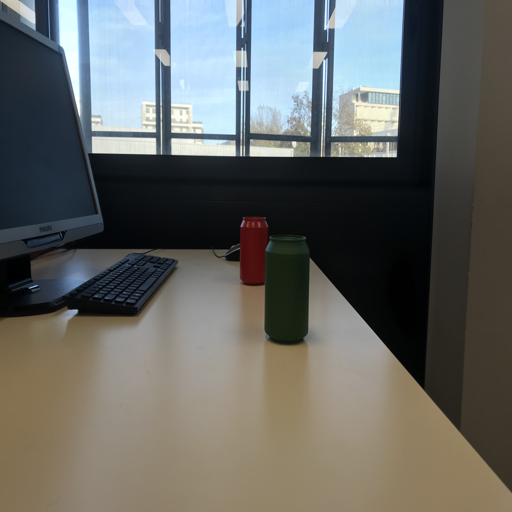Green_Can: (263, 232, 311, 345)
Red_Can: (238, 214, 269, 285)
